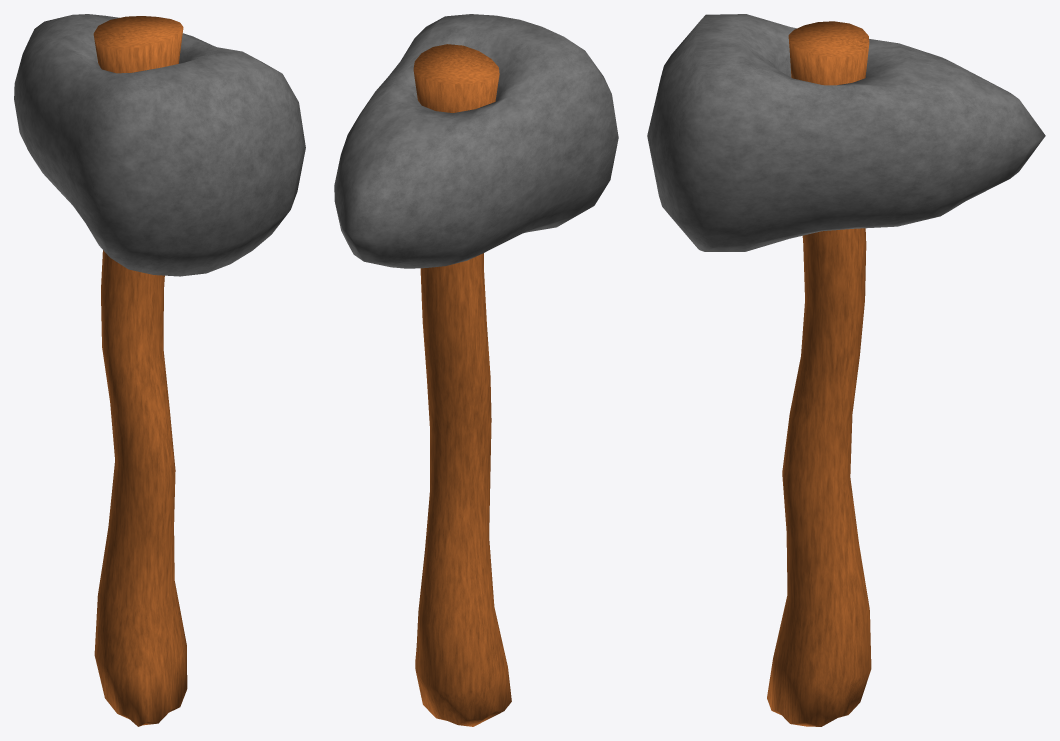
Rendered from MakeshiftHammer.fbx.
3 views of the same model, side by side, from view 1: azimuth 30°, elevation 25°; view 2: azimuth 150°, elevation 25°; view 3: azimuth 270°, elevation 25° (orthographic). The views are drawn at different scales.
Parts seen in each view (by area): view 1: HammerAssembled; view 2: HammerAssembled; view 3: HammerAssembled.
Part boxes in pixels (x1,y1,x2,y2): HammerAssembled: (14, 14, 305, 726); HammerAssembled: (334, 14, 618, 726); HammerAssembled: (647, 14, 1045, 726).
Bounding box in the file's own units: 48.06 × 151 × 78.22.
Materials: 2 (2 with a texture image).
